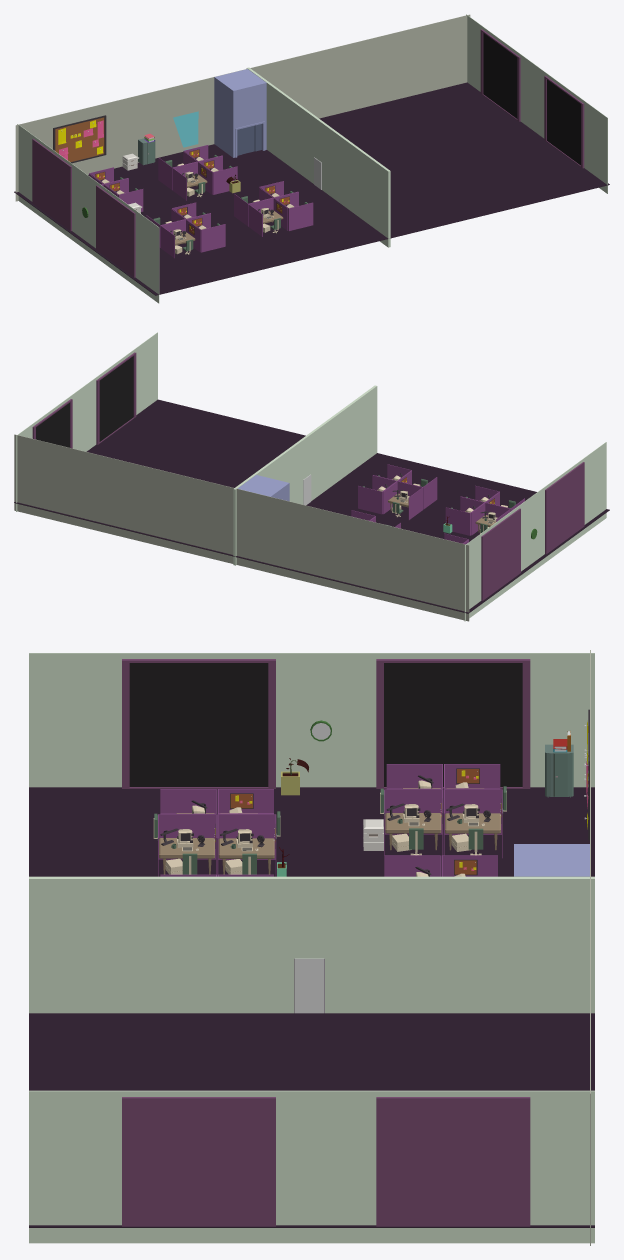
The model's file is Floor3_ContextII.fbx.
The picture shows the model from 3 angles, top to bottom: view 1: azimuth 30°, elevation 25°; view 2: azimuth 150°, elevation 25°; view 3: azimuth 270°, elevation 25°; orthographic projection. The views are drawn at different scales.
Visible parts, largest first — view 1: Cube.074, Cube.073, Cube.089, Cube.072, Cube.092, Cube.110, Cube.103, Cube.104, Cube.079, Cube.086, Cubicle one object.033, Cubicle one object.052 (+9 smaller); view 2: Cube.073, Cube.074, Cube.089, Cube.072, Cube.092, Cube.104, Cube.086, Cube.079, Cube.103, Cubicle one object.034, Cubicle one object.036, Cubicle one object.044 (+3 smaller); view 3: Cube.089, Cube.074, Cube.092, Cube.072, Cube.103, Cube.079, Cube.104, Cube.086, Cubicle one object.040, Cubicle one object.044, Cubicle one object.039, Cubicle one object.043 (+9 smaller).
Part boxes in pixels (left/top/right/bottom): Cube.074: left=14, top=82, right=609, bottom=295; Cube.073: left=15, top=14, right=470, bottom=201; Cube.089: left=246, top=67, right=390, bottom=247; Cube.072: left=17, top=124, right=159, bottom=303; Cube.092: left=466, top=14, right=607, bottom=193; Cube.110: left=214, top=69, right=266, bottom=157; Cube.103: left=480, top=29, right=520, bottom=121; Cube.104: left=544, top=76, right=584, bottom=168; Cube.079: left=96, top=185, right=135, bottom=277; Cube.086: left=32, top=138, right=71, bottom=231; Cubicle one object.033: left=53, top=115, right=106, bottom=163; Cubicle one object.052: left=172, top=162, right=212, bottom=200; Cube.073: left=14, top=434, right=469, bottom=621; Cube.074: left=14, top=399, right=609, bottom=613; Cube.089: left=233, top=385, right=377, bottom=565; Cube.072: left=464, top=442, right=606, bottom=621; Cube.092: left=16, top=332, right=157, bottom=511; Cube.104: left=96, top=352, right=136, bottom=444; Cube.086: left=481, top=508, right=520, bottom=600; Cube.079: left=545, top=462, right=584, bottom=554; Cube.103: left=32, top=399, right=72, bottom=448; Cubicle one object.034: left=383, top=481, right=422, bottom=519; Cubicle one object.036: left=358, top=475, right=396, bottom=514; Cubicle one object.044: left=445, top=496, right=484, bottom=535; Cube.089: left=29, top=876, right=594, bottom=1013; Cube.074: left=29, top=787, right=594, bottom=1227; Cube.092: left=29, top=1090, right=594, bottom=1243; Cube.072: left=29, top=653, right=594, bottom=787; Cube.103: left=376, top=1097, right=530, bottom=1226; Cube.079: left=122, top=659, right=275, bottom=788; Cube.104: left=122, top=1097, right=275, bottom=1226; Cube.086: left=376, top=659, right=530, bottom=788; Cubicle one object.040: left=443, top=789, right=502, bottom=858; Cubicle one object.044: left=217, top=814, right=276, bottom=876; Cubicle one object.039: left=384, top=789, right=442, bottom=855; Cubicle one object.043: left=158, top=814, right=216, bottom=876.
Size of the model in its own units: 1365 by 218 by 735.
